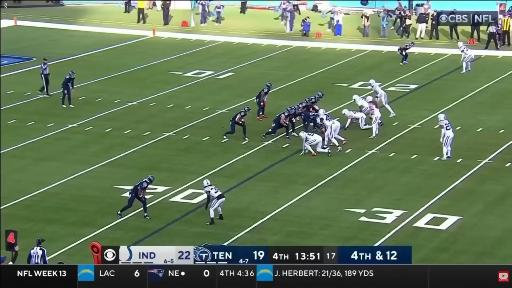Helmet: (315, 91, 324, 100), (146, 175, 154, 184), (203, 179, 211, 187), (287, 106, 295, 113), (309, 97, 317, 103), (438, 114, 446, 120), (295, 104, 301, 111), (69, 70, 75, 77), (366, 96, 373, 102), (305, 97, 311, 104), (266, 82, 272, 88), (244, 106, 250, 112), (299, 132, 306, 137), (369, 80, 375, 85), (319, 109, 325, 114), (353, 95, 359, 100), (457, 42, 463, 47), (342, 109, 348, 114), (319, 118, 324, 124), (301, 102, 307, 106), (410, 42, 415, 46)
Jersey: (204, 185, 225, 199), (130, 180, 149, 195), (459, 45, 474, 62), (303, 133, 322, 145), (274, 111, 290, 125), (439, 120, 454, 134), (256, 87, 270, 102), (356, 99, 369, 114), (317, 114, 332, 127), (231, 110, 247, 122), (275, 111, 290, 123), (371, 84, 384, 97), (369, 103, 381, 117), (62, 76, 74, 89), (398, 44, 413, 54), (347, 111, 365, 119), (459, 45, 473, 55), (310, 104, 319, 113)
Player: (117, 175, 154, 219), (319, 109, 347, 151), (262, 107, 294, 140), (203, 180, 225, 225), (369, 80, 395, 117), (223, 106, 250, 140), (300, 132, 330, 156), (439, 114, 454, 160), (256, 82, 272, 120), (367, 96, 381, 138), (342, 109, 371, 129), (303, 97, 318, 131), (458, 42, 474, 73), (62, 71, 75, 107), (289, 104, 303, 136), (398, 42, 414, 65), (353, 95, 370, 115), (353, 95, 369, 114), (315, 92, 324, 103)
